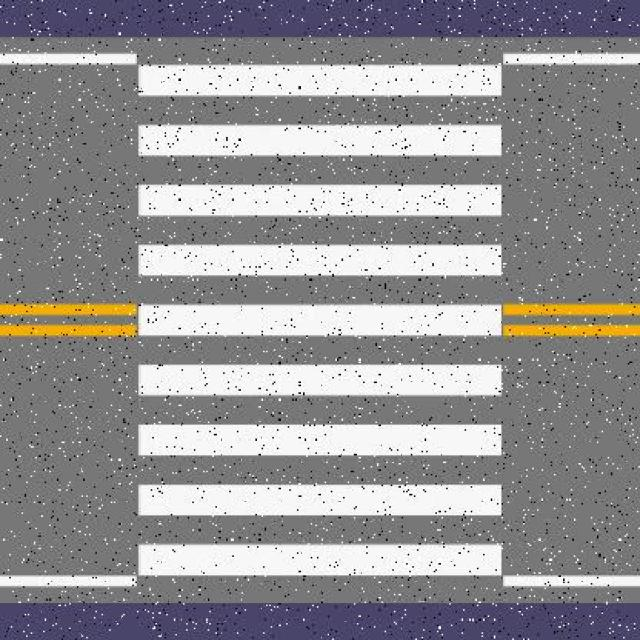intact_crosswalk: (134, 63, 505, 580)
